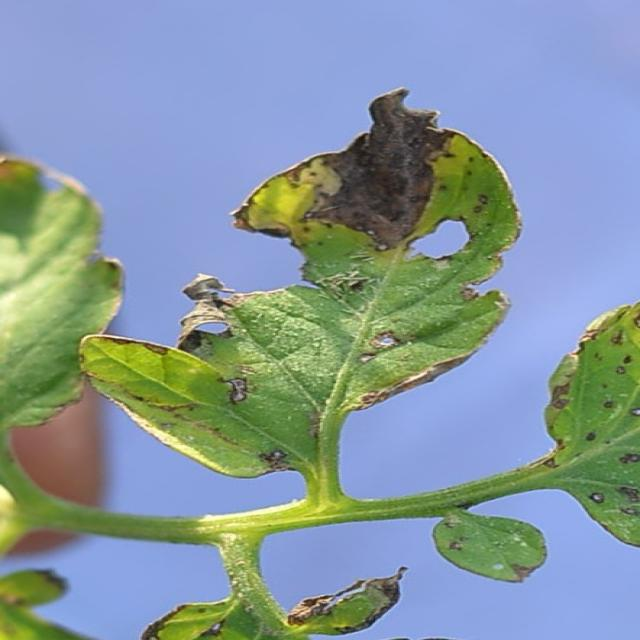infected: (169, 87, 524, 395), (535, 300, 640, 548), (283, 563, 449, 639)
